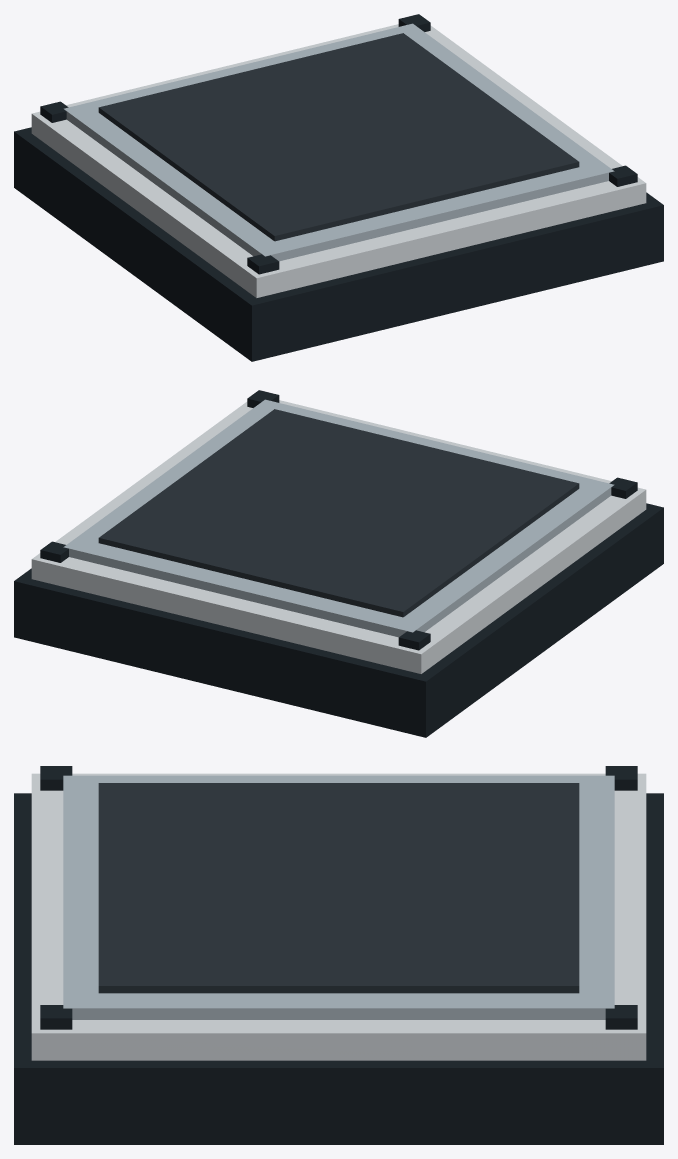
File: ryzen9-7950x.glb
The picture shows the model from 3 angles, top to bottom: view 1: azimuth 30°, elevation 25°; view 2: azimuth 150°, elevation 25°; view 3: azimuth 270°, elevation 25°; orthographic projection. The views are drawn at different scales.
Parts seen in each view (by area): view 1: ryzen9-7950x; view 2: ryzen9-7950x; view 3: ryzen9-7950x.
Part boxes in pixels (x1,y1,x2,y2): ryzen9-7950x: (14, 14, 663, 361); ryzen9-7950x: (14, 390, 663, 737); ryzen9-7950x: (14, 766, 663, 1144).
Size of the model in its own units: 0.92 by 0.2095 by 0.92.
